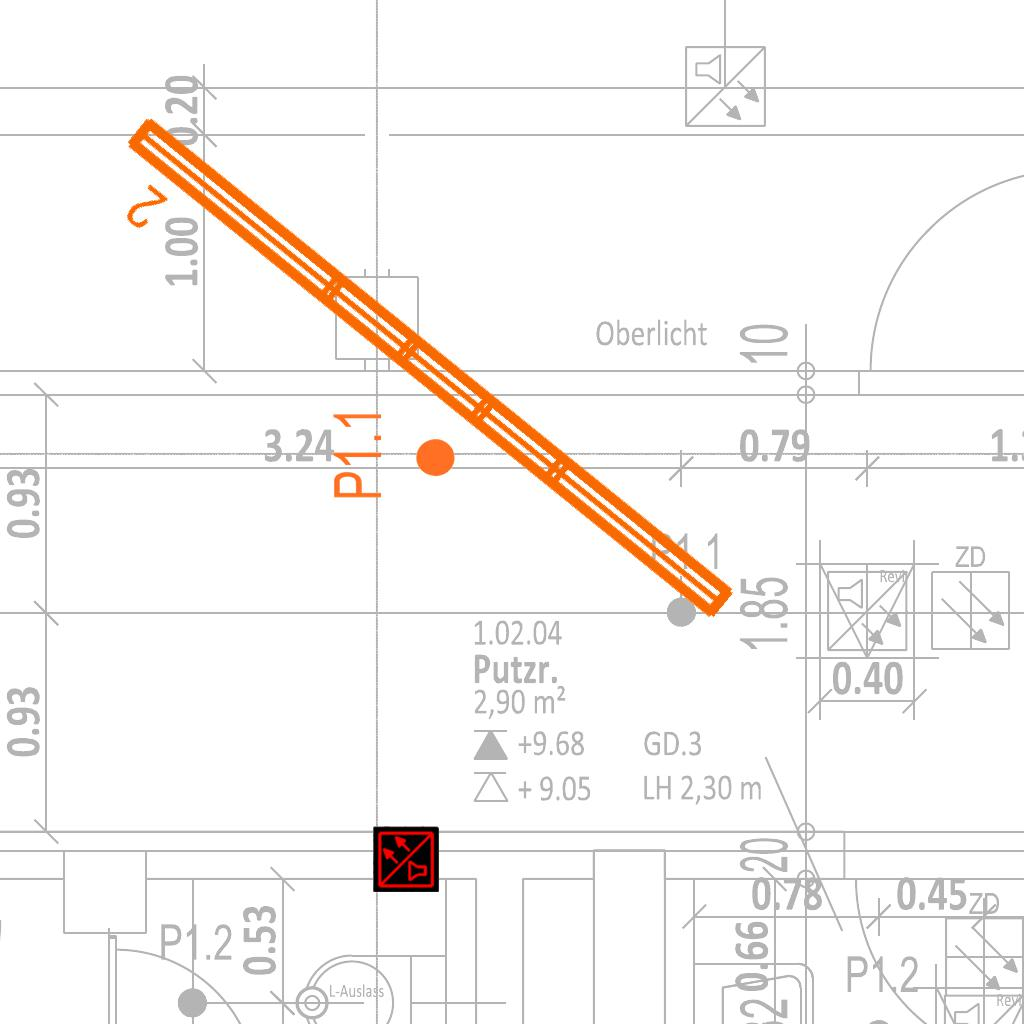Ambulanz_Pendelleuchte_LED: (79, 100, 751, 676)
Downlight_LED_Einbauleuchten_Flur: (330, 408, 458, 501)
OKW_Multisensormelder_(Kombination_optischer_Rauch-Kahlenmonoxid_Waerme-Melder): (373, 826, 439, 892)
